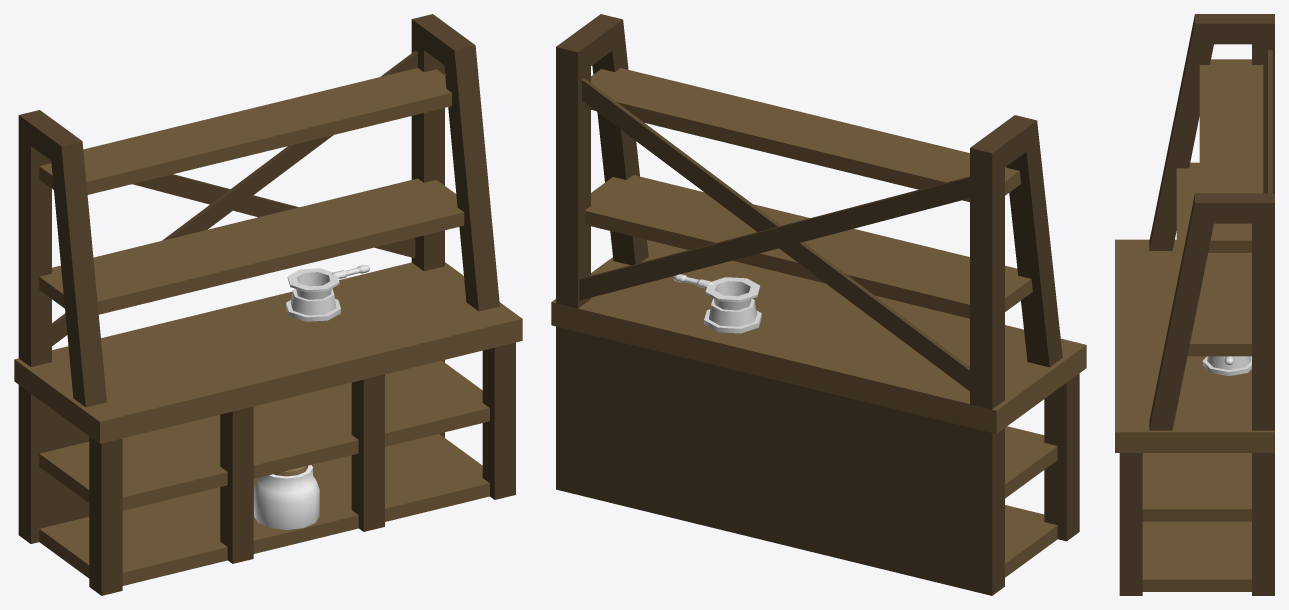
Rendered from SteepingStation.glb.
The picture shows the model from 3 angles, left to right: view 1: azimuth 30°, elevation 25°; view 2: azimuth 150°, elevation 25°; view 3: azimuth 270°, elevation 25°; orthographic projection. The views are drawn at different scales.
Visible parts, largest first — view 1: steepingStation, bottleA, steeper, steeperStand; view 2: steepingStation, steeper, steeperStand; view 3: steepingStation, steeperStand.
Boxes of the visible parts, left/top/right/bottom form: steepingStation: left=14, top=14, right=522, bottom=595; bottleA: left=254, top=465, right=319, bottom=529; steeper: left=287, top=265, right=369, bottom=299; steeperStand: left=286, top=288, right=340, bottom=321; steepingStation: left=551, top=14, right=1086, bottom=595; steeper: left=673, top=274, right=760, bottom=310; steeperStand: left=704, top=298, right=761, bottom=333; steepingStation: left=1115, top=14, right=1274, bottom=595; steeperStand: left=1202, top=356, right=1251, bottom=375.
Bounding box in the file's own units: 2 × 1.9 × 0.7.
